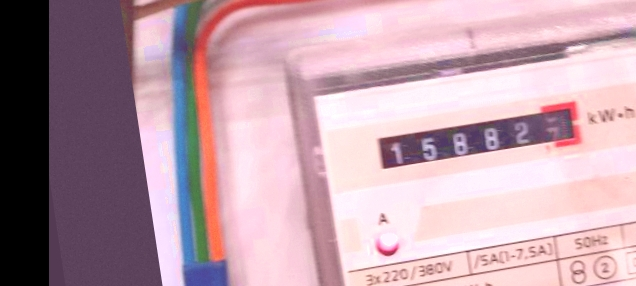1: (389, 139, 406, 166)
2: (513, 117, 533, 145)
5: (419, 134, 439, 161)
7: (545, 123, 561, 141)
8: (481, 123, 501, 150), (450, 130, 470, 156)
screen: (362, 92, 594, 184)
